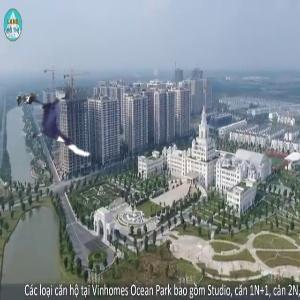drone: (24, 87, 102, 165)
